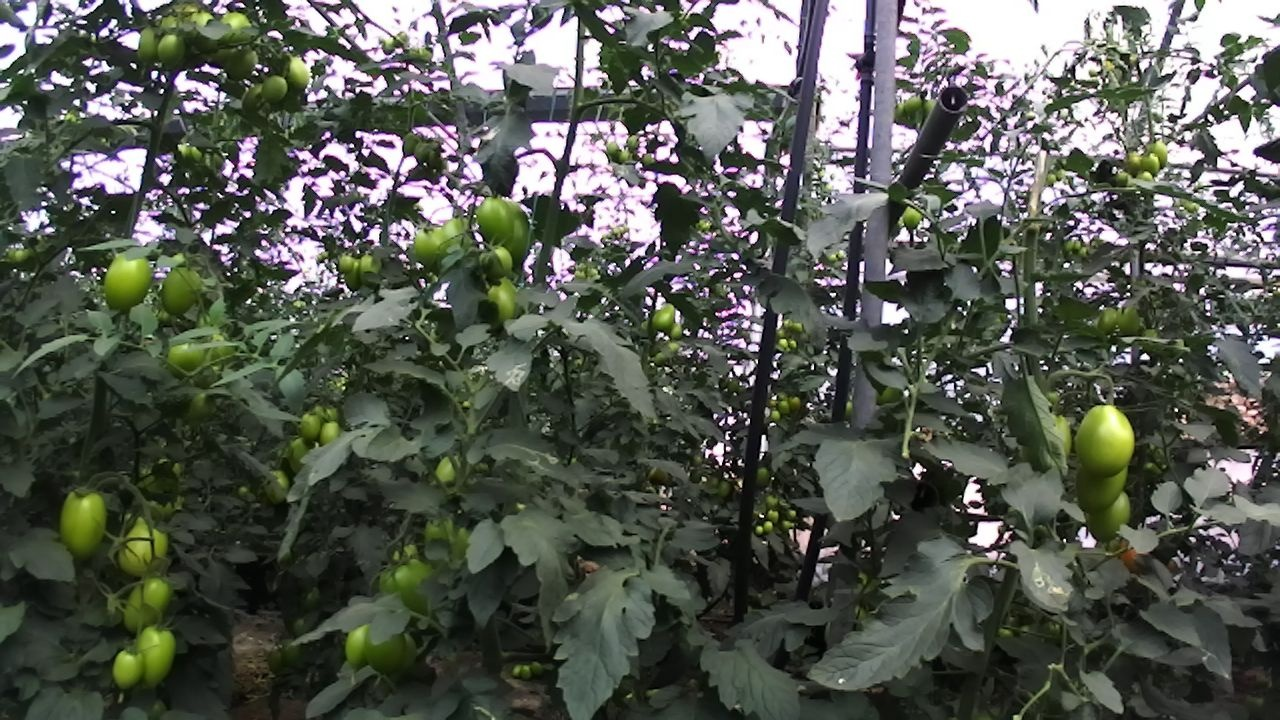tomato: (364, 541, 468, 639), (1067, 392, 1142, 485), (475, 186, 546, 276), (1063, 439, 1140, 521), (111, 497, 178, 581), (51, 482, 114, 567), (1075, 482, 1144, 556), (117, 566, 181, 643), (97, 244, 160, 315), (469, 186, 525, 264), (475, 270, 531, 339), (130, 616, 179, 694), (333, 616, 386, 688), (358, 613, 413, 681), (156, 260, 207, 323), (405, 216, 460, 274), (107, 643, 151, 701), (474, 239, 521, 286), (277, 47, 316, 98), (256, 463, 295, 509), (220, 45, 265, 84), (893, 195, 932, 240), (1111, 299, 1147, 344), (133, 23, 170, 66), (153, 28, 188, 73), (1090, 296, 1125, 340), (237, 78, 275, 117), (646, 294, 680, 336), (259, 70, 294, 108), (355, 246, 385, 290), (294, 409, 330, 445), (341, 249, 367, 297), (1139, 135, 1173, 171), (313, 417, 348, 451), (1137, 149, 1165, 178), (331, 251, 358, 278), (751, 463, 776, 491), (786, 390, 805, 418), (507, 658, 525, 681), (763, 505, 782, 526), (528, 657, 545, 678), (776, 397, 793, 416), (519, 662, 535, 681), (767, 408, 783, 425), (761, 518, 775, 535), (752, 522, 765, 537)
